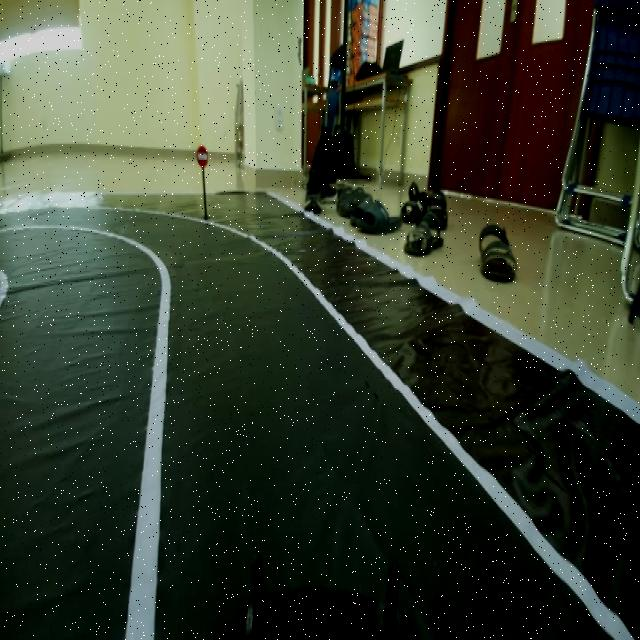no_entry: (195, 144, 214, 168)
